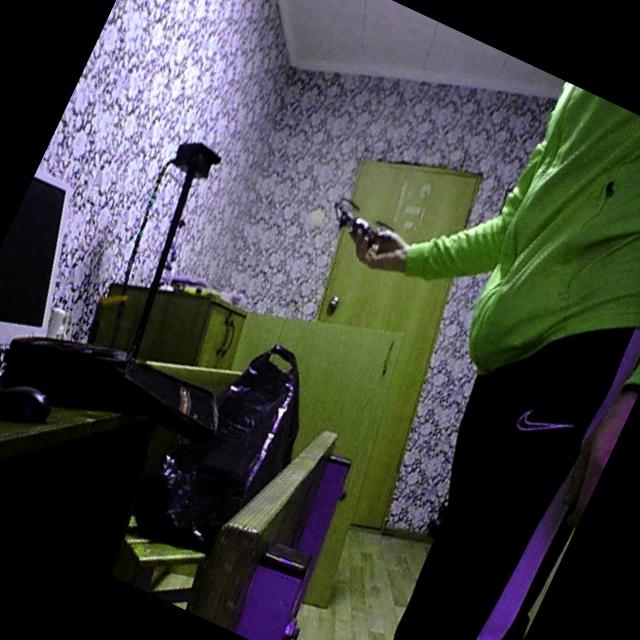drone: (312, 174, 421, 276)
